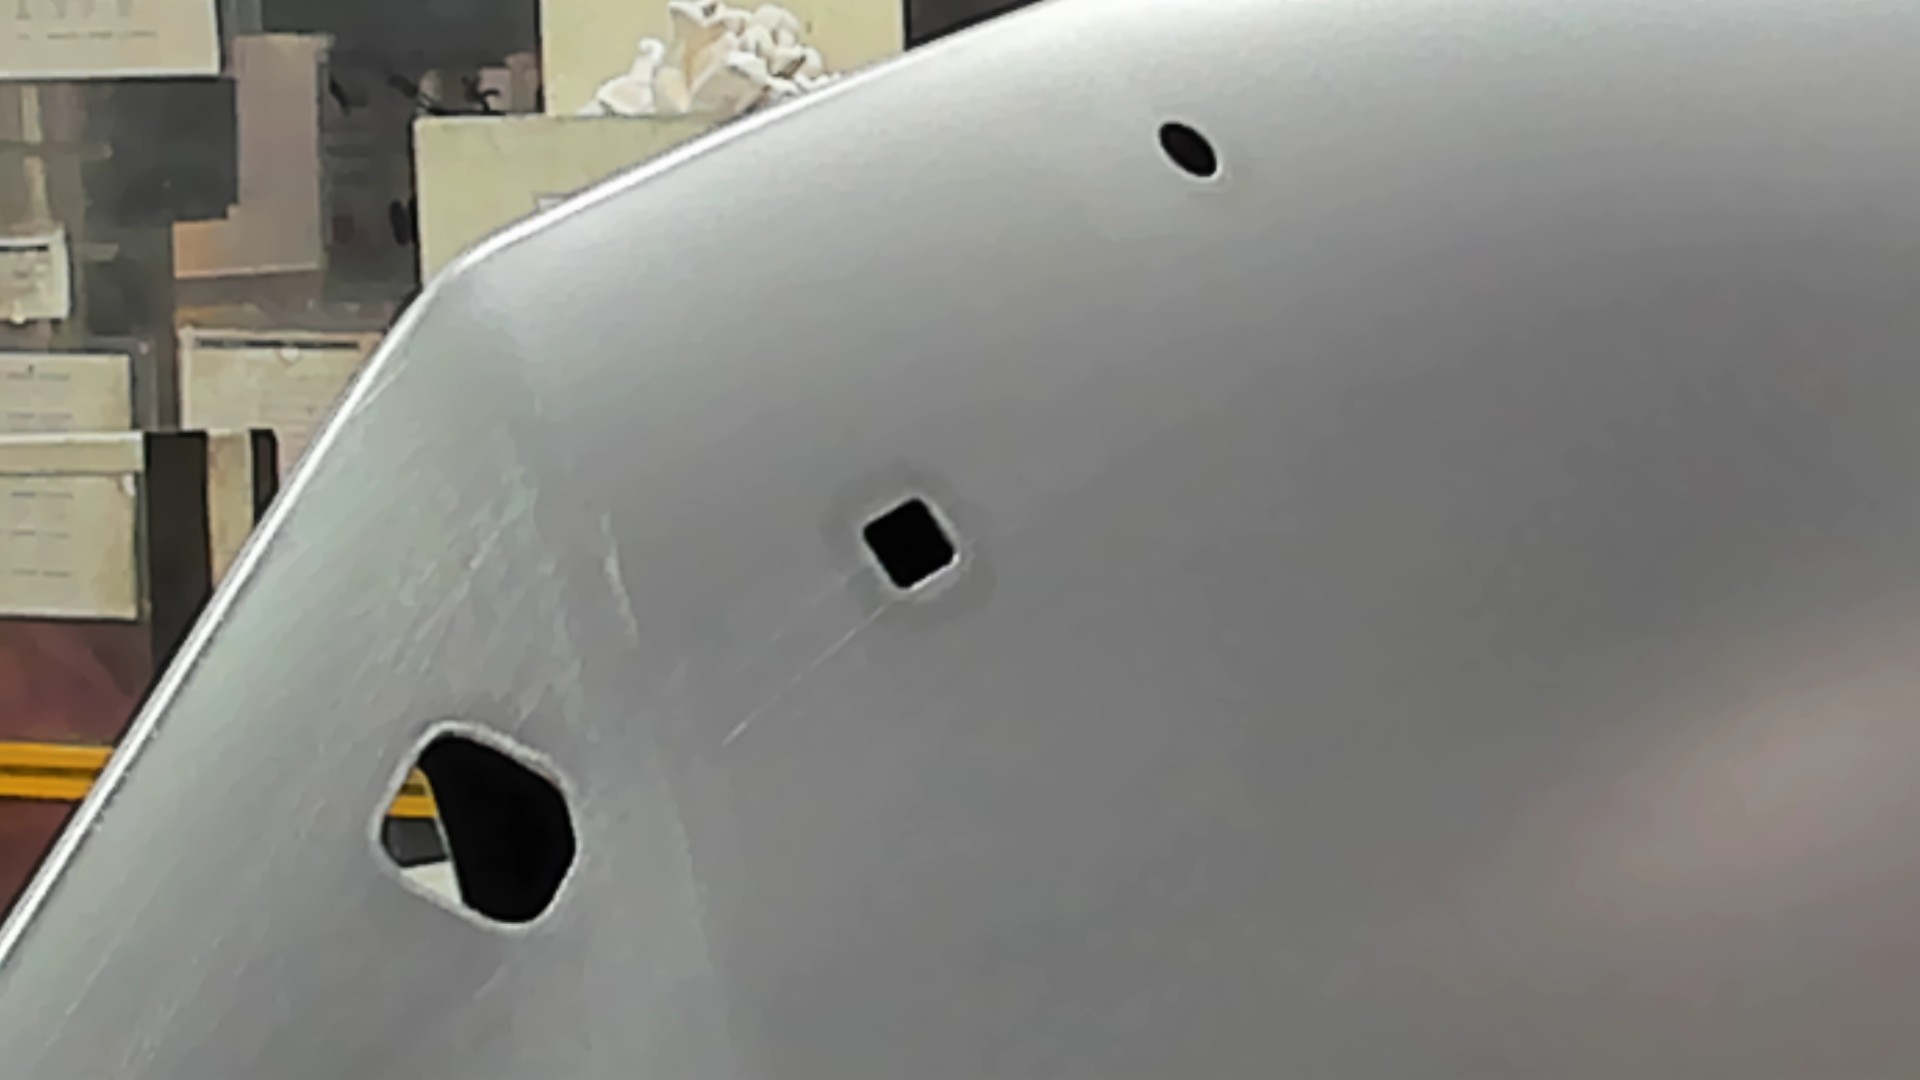capo: (971, 187, 1920, 1080)
chico: (1153, 113, 1225, 185)
grande: (364, 717, 585, 942)
mediano: (855, 483, 968, 603)
